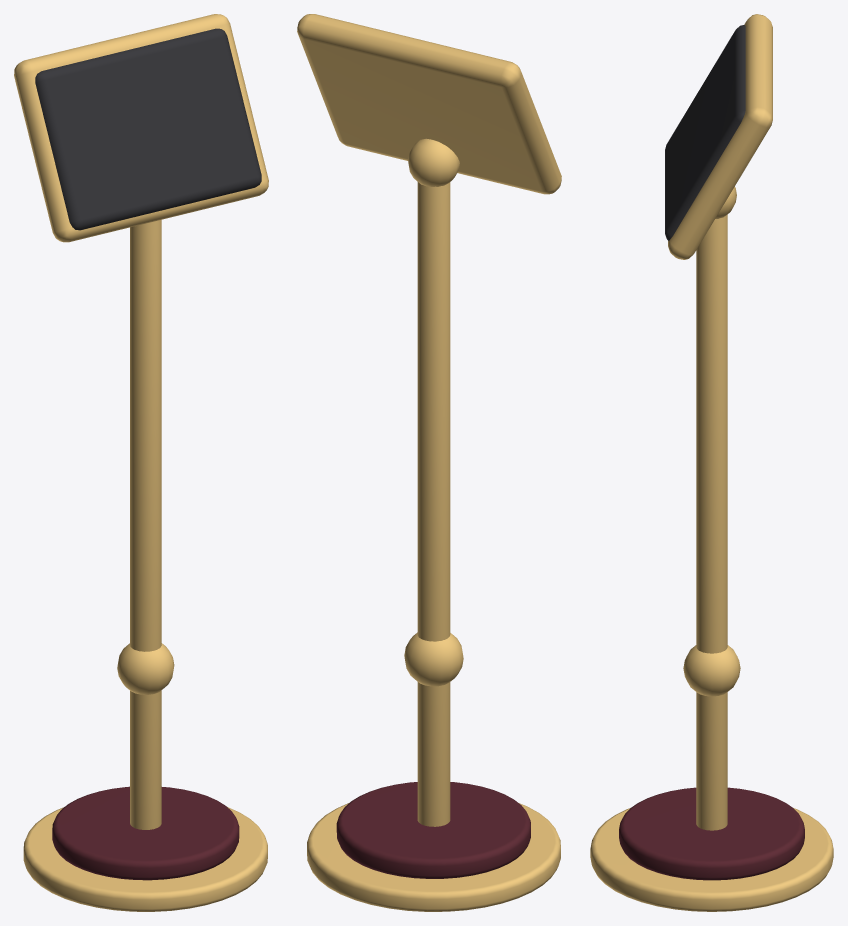
The model's file is scanner.glb.
The picture shows the model from 3 angles, left to right: view 1: azimuth 30°, elevation 25°; view 2: azimuth 150°, elevation 25°; view 3: azimuth 270°, elevation 25°; orthographic projection. The views are drawn at different scales.
Parts seen in each view (by area): view 1: scanner; view 2: scanner; view 3: scanner.
Boxes of the visible parts, x1,y1,x2,y2 form: scanner: [14, 14, 268, 911]; scanner: [297, 14, 561, 911]; scanner: [590, 14, 833, 911].
Bounding box in the file's own units: 0.34 × 1.24 × 0.34.
